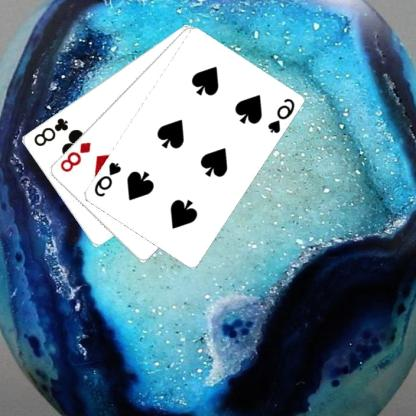6S: (93, 160, 124, 198), (267, 96, 297, 134)
8C: (32, 115, 71, 148)
8D: (58, 140, 94, 173)
